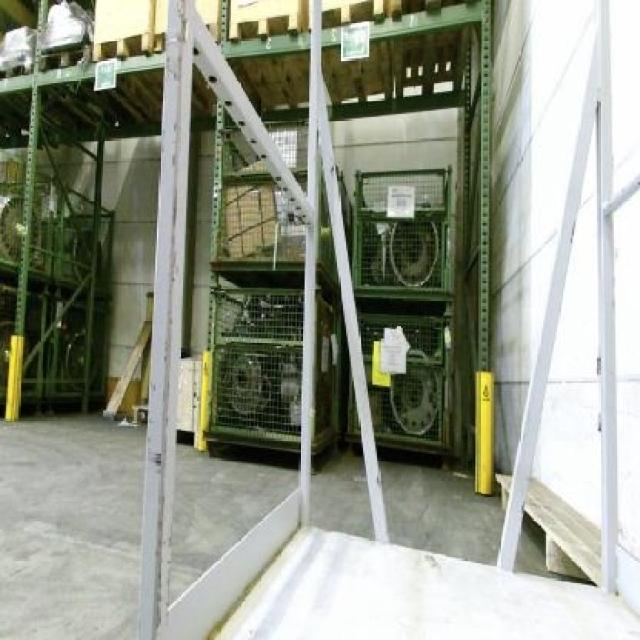pallets: (212, 526, 637, 637)
